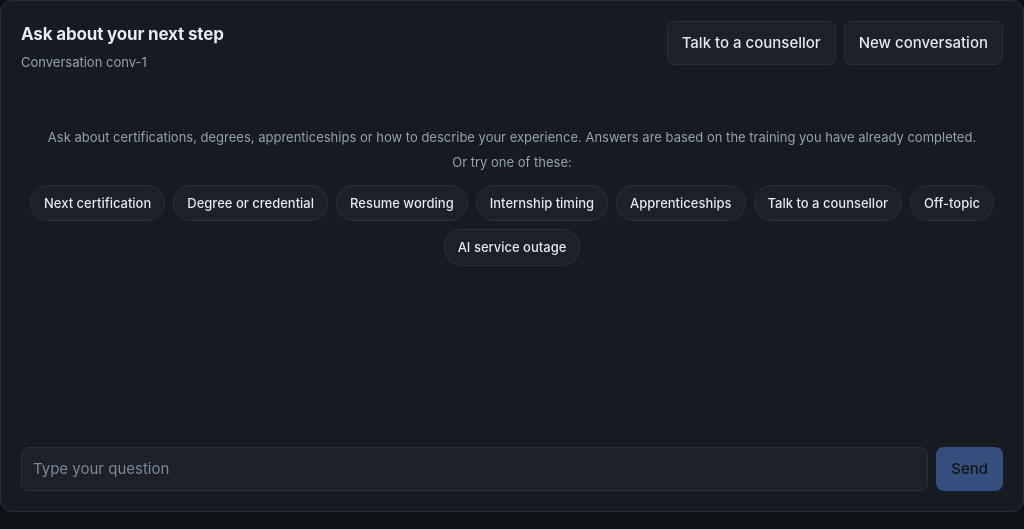
Scenario: CustomerChat › starts a conversation and renders an answered reply
Type "Which certification should I work toward next?" into the field named "Message" at (475, 469), box [21,447,928,491]
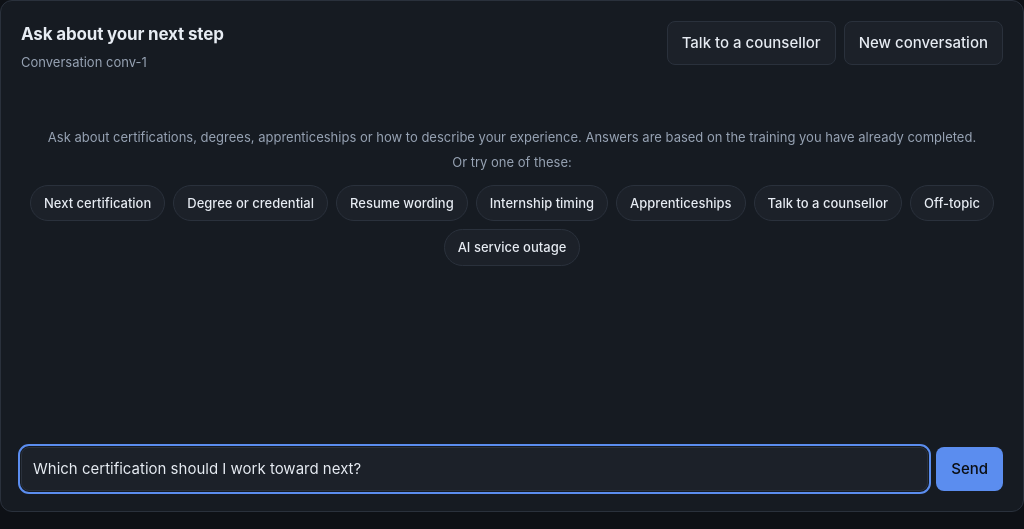
Click the button "Send" at (970, 469), box [936,447,1003,491]
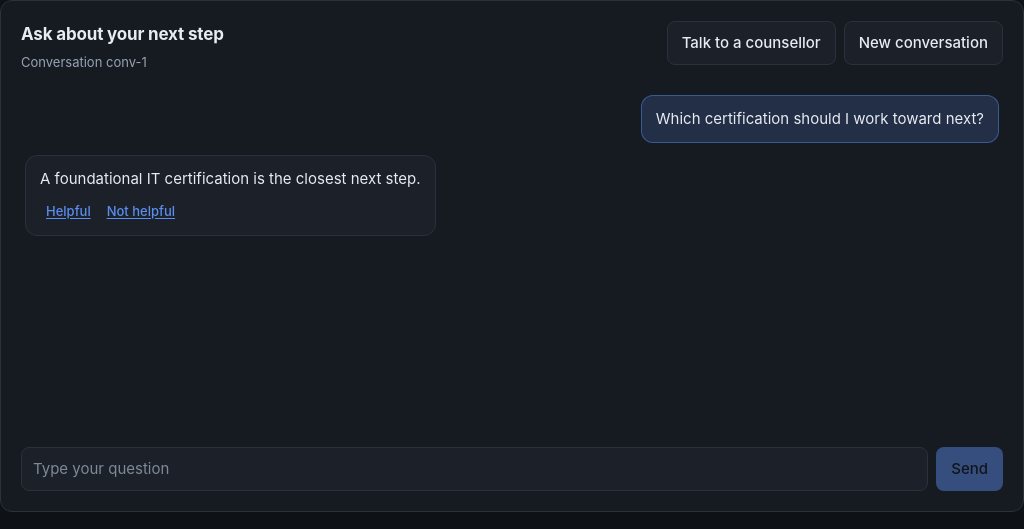
Check: the text "A foundational IT certification is the closest next step." is shown, box [40,167,420,191]
Check: the text "Which certification should I work toward next?" is shown, box [656,107,984,131]
